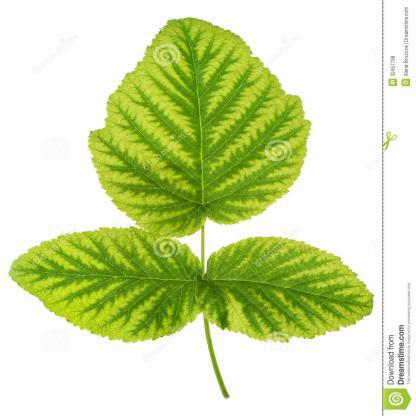Raspberry leaf: (80, 14, 330, 235), (4, 227, 210, 346), (206, 235, 378, 349)
